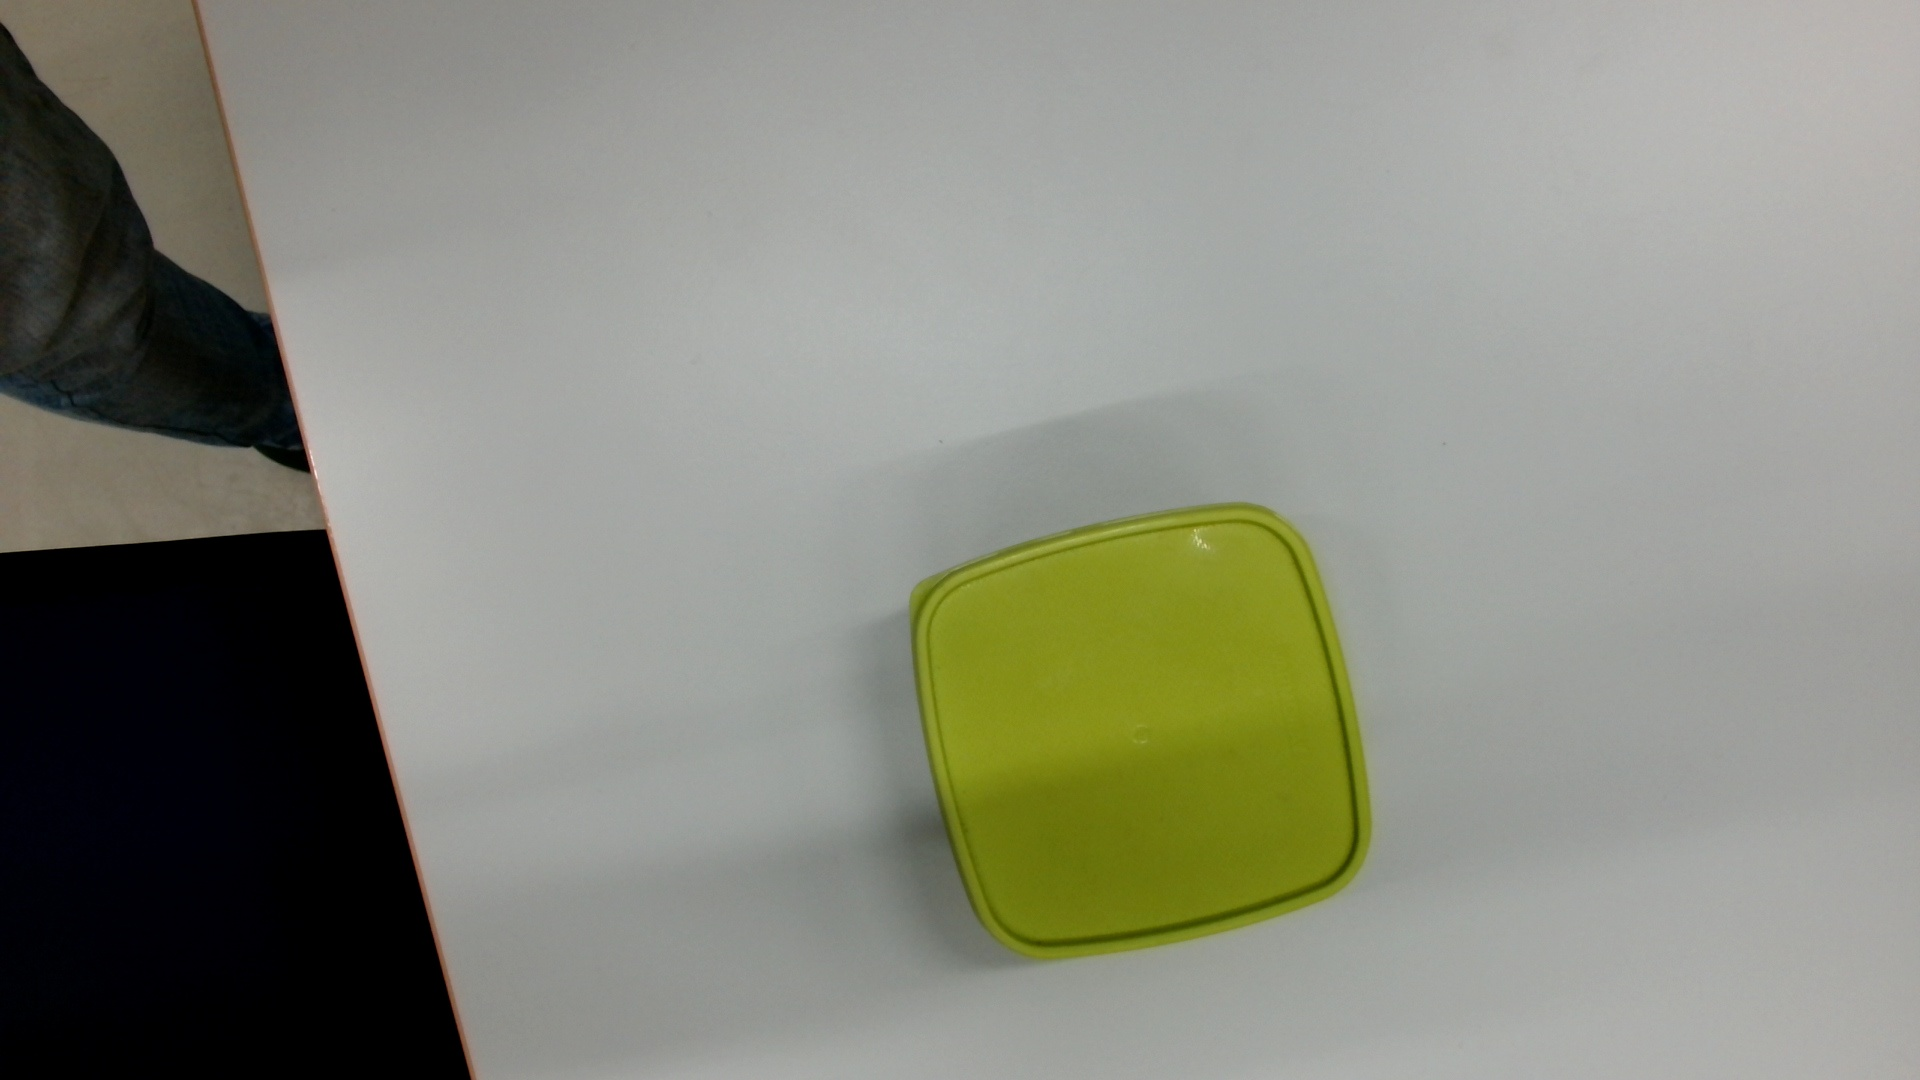Box: (898, 495, 1382, 971)
